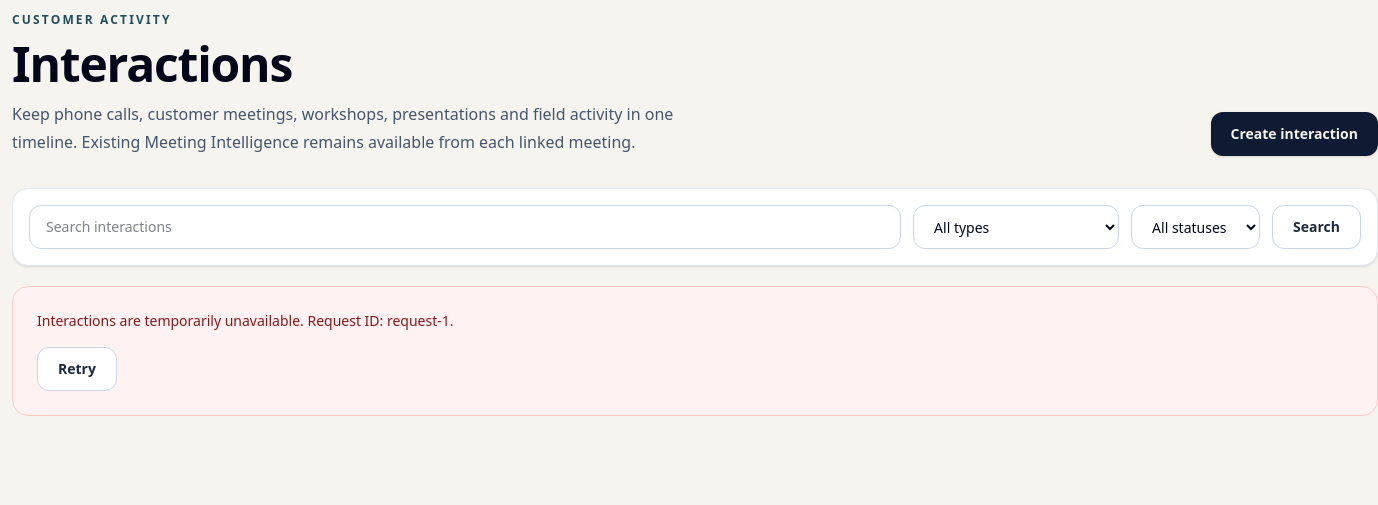
it: InteractionList › shows a safe error and supports retry
expect the message shows "Interactions are temporarily unavailable.": met, box [37, 311, 454, 330]
Click the button "Retry": (77, 369) [37, 347, 117, 391]
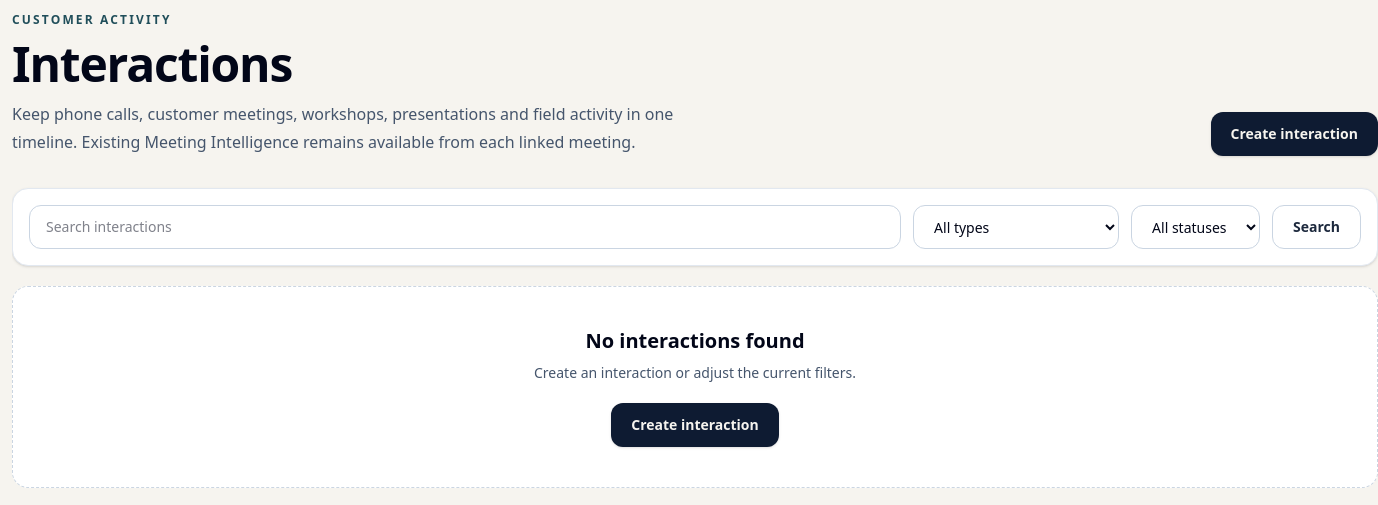
expect the heading "No interactions found" is shown: met, box [585, 327, 804, 354]
